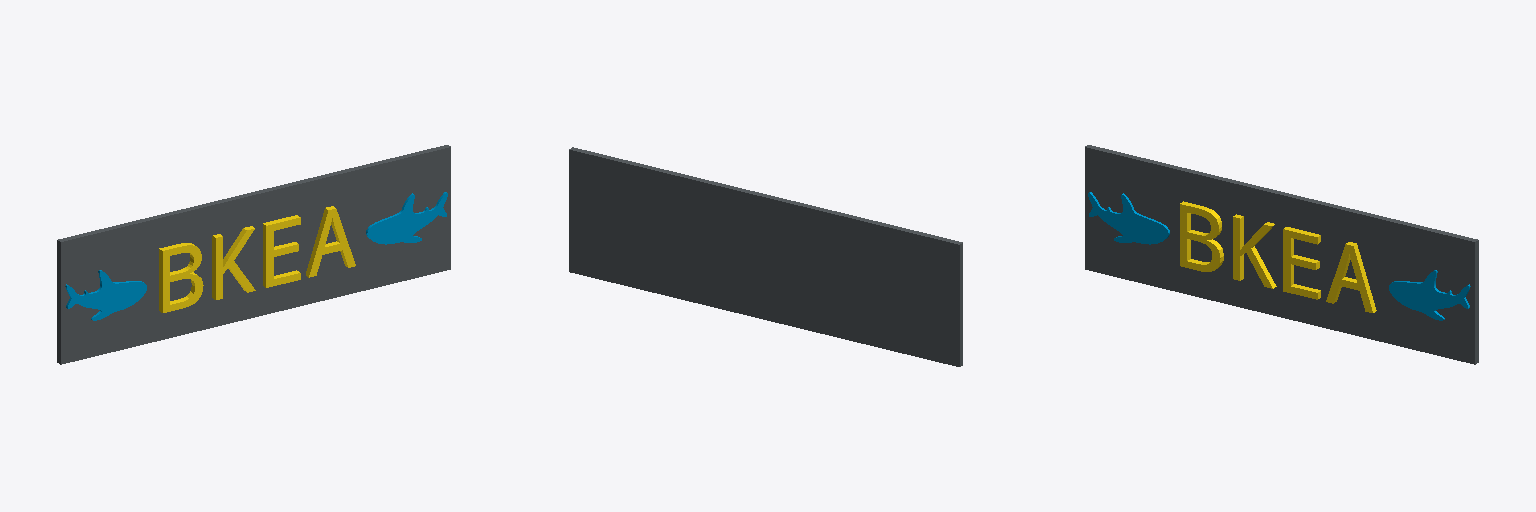
The model's file is tinker.obj.
The picture shows the model from 3 angles: view 1: azimuth 30°, elevation 25°; view 2: azimuth 150°, elevation 25°; view 3: azimuth 330°, elevation 25°; orthographic projection.
Parts seen in each view (by area): view 1: obj_0; view 2: obj_0; view 3: obj_0.
Boxes of the visible parts, box(x1,y1,x2,y2) form: obj_0: box(57, 145, 450, 364); obj_0: box(569, 147, 962, 366); obj_0: box(1085, 145, 1478, 364).
Size of the model in its own units: 130 by 39 by 4.